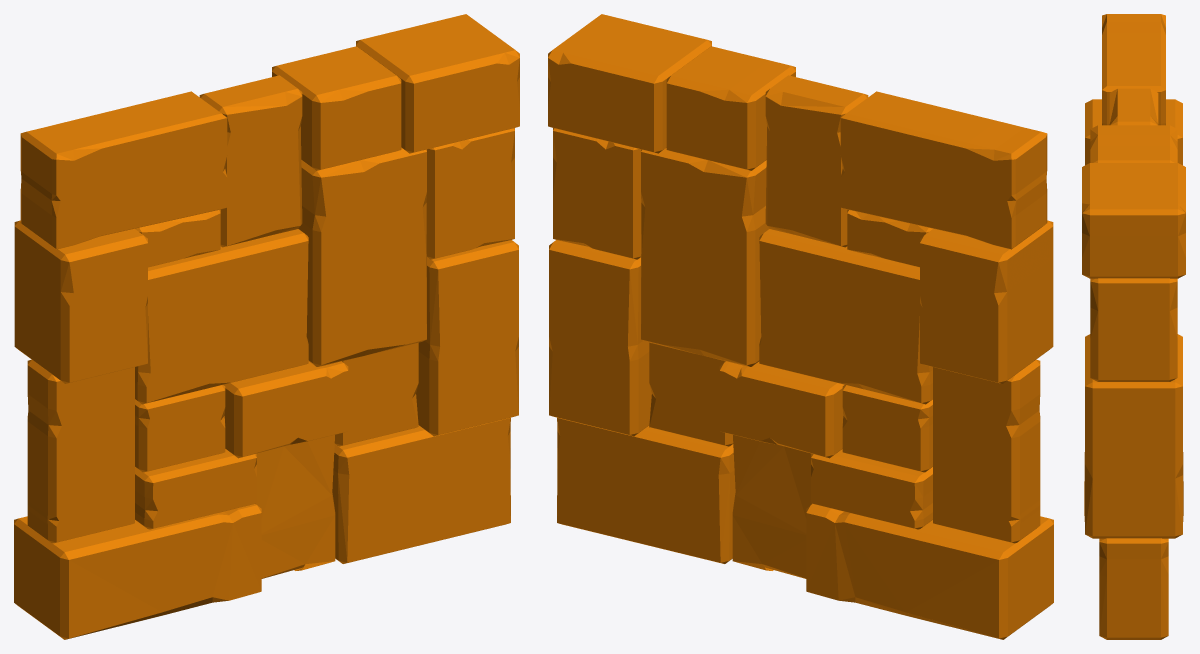
The model's file is Wall_Modular.dae.
The picture shows the model from 3 angles, left to right: view 1: azimuth 30°, elevation 25°; view 2: azimuth 150°, elevation 25°; view 3: azimuth 270°, elevation 25°; orthographic projection. The views are drawn at different scales.
Parts seen in each view (by area): view 1: Wall_Modular; view 2: Wall_Modular; view 3: Wall_Modular.
Part boxes in pixels (<box>): Wall_Modular: <box>14,14,519,639</box>; Wall_Modular: <box>548,14,1053,639</box>; Wall_Modular: <box>1082,14,1185,639</box>.
Size of the model in its own units: 2 by 0.4381 by 2.01.
